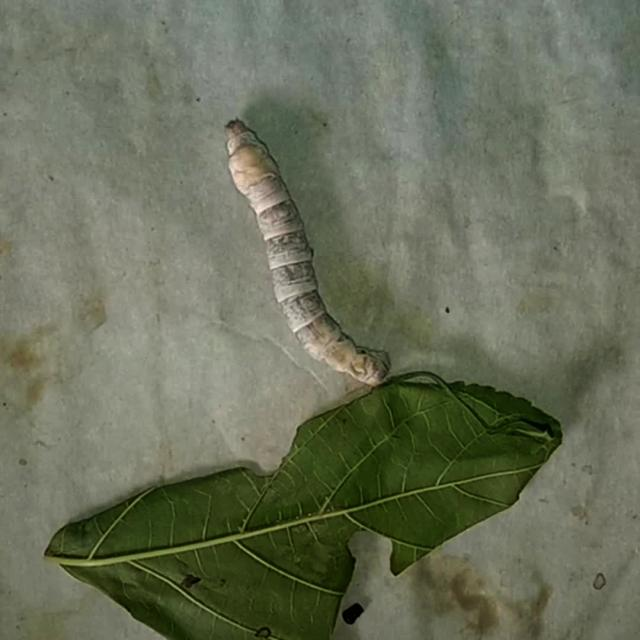Grasserie: (212, 107, 400, 390)
